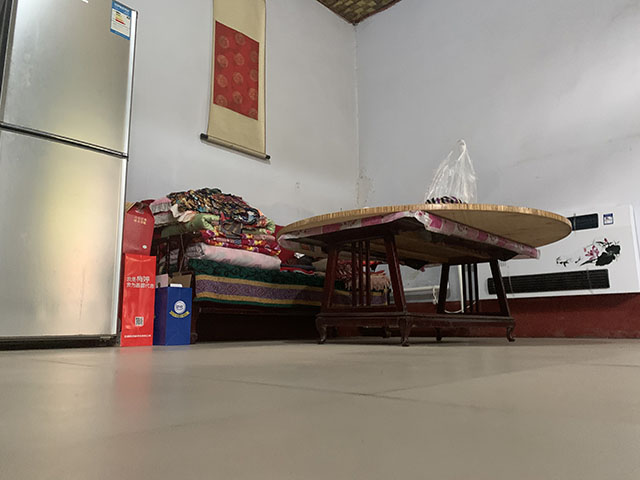sofa: (151, 187, 392, 345)
table: (276, 210, 544, 348)
